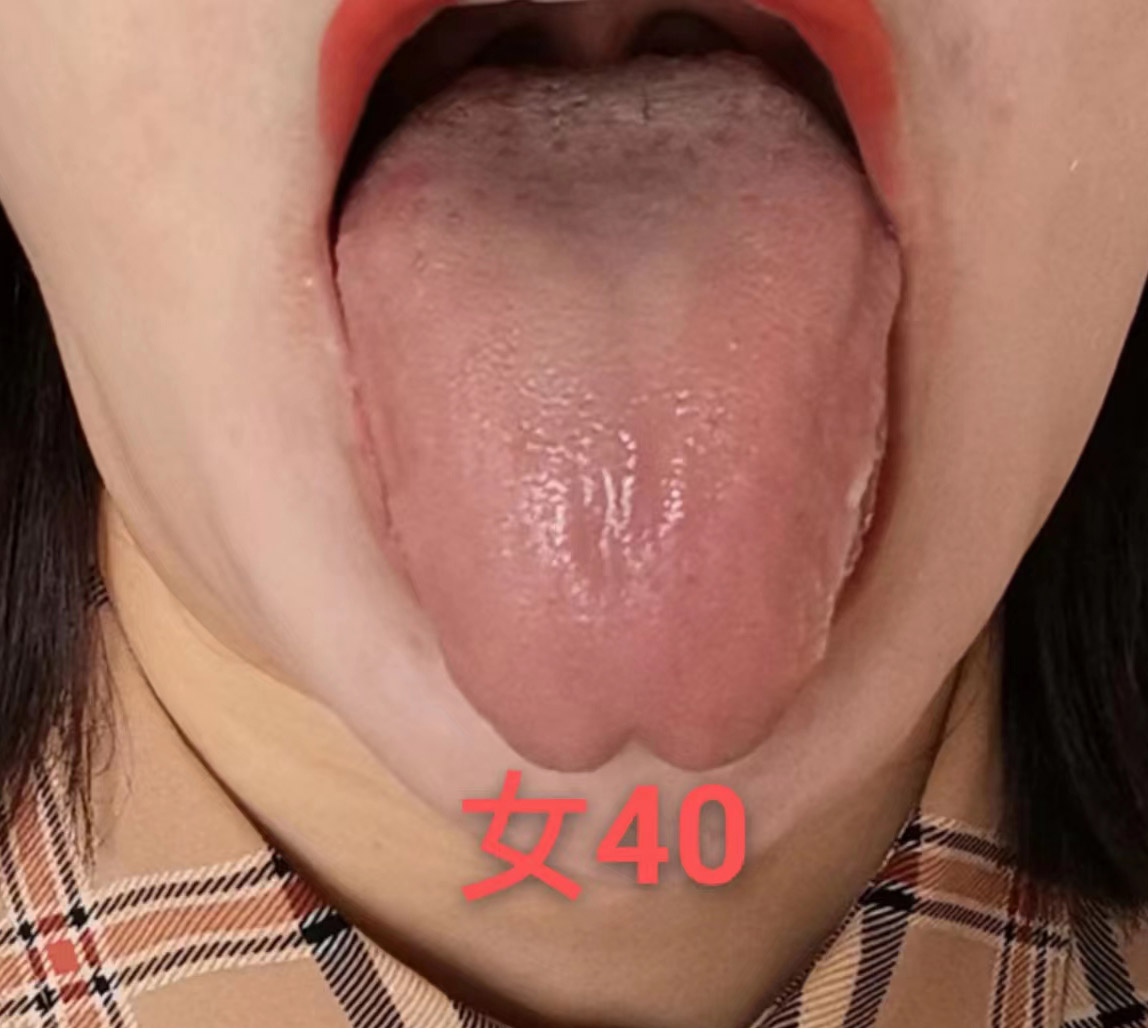baitaishe: (336, 53, 901, 772)
xinfeiao: (553, 688, 707, 771)
